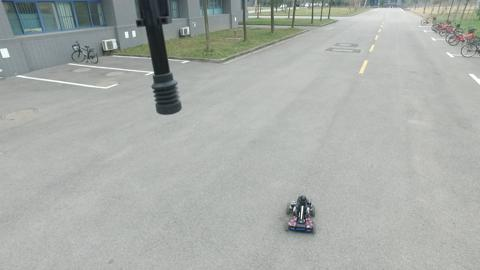chariot: (282, 192, 322, 243)
